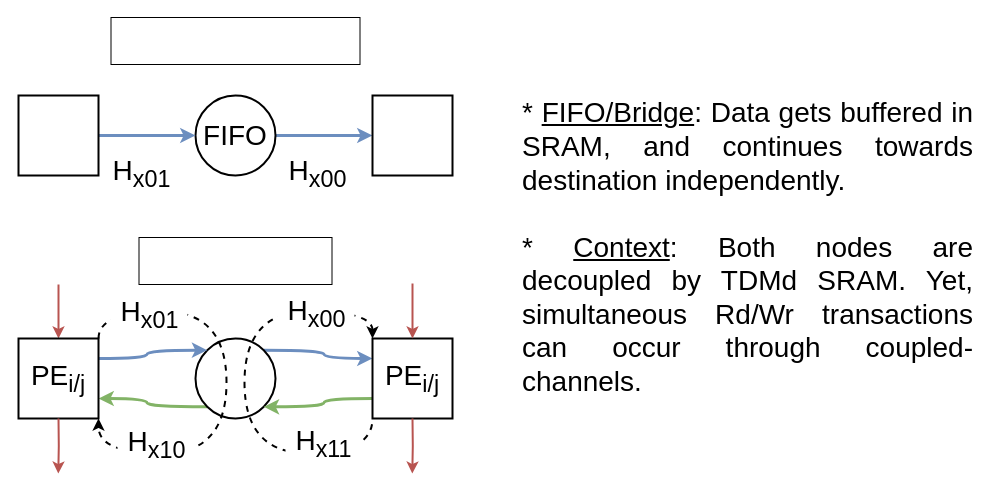
This 990x500 diagram has some shape labels left out. Here are the shapes that lost their labels. From the top down, the centre of each, then its label:
the point at 235,40: FIFO/Bridge Mode
the point at 58,135: PE i
the point at 412,135: PE j
the point at 235,260: Context Mode
the point at 235,378: MEM
